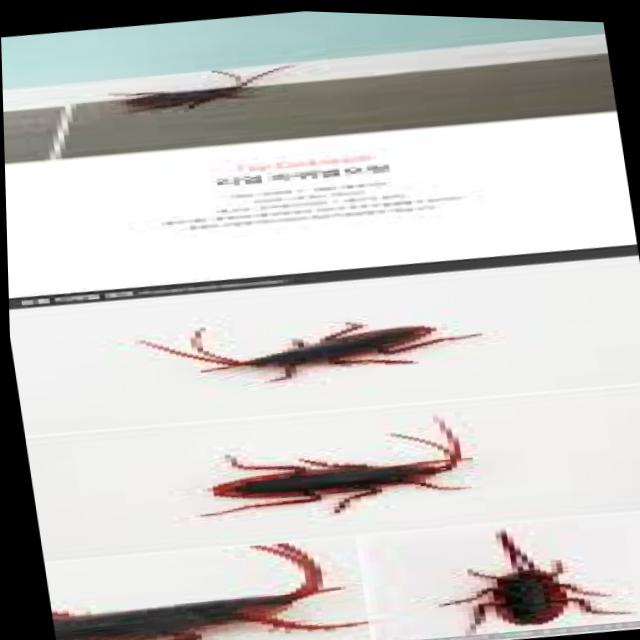Cockroach: (140, 393, 532, 562), (108, 275, 551, 418), (384, 523, 640, 640)
